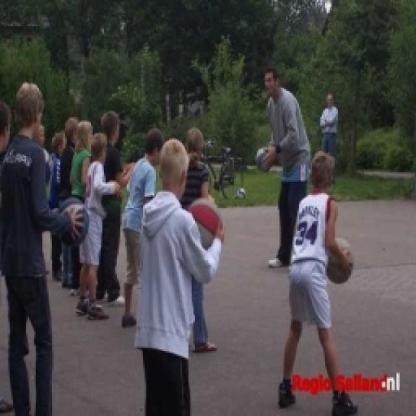basketball: (185, 196, 225, 254), (58, 198, 90, 239), (324, 237, 352, 280), (255, 146, 273, 171)
